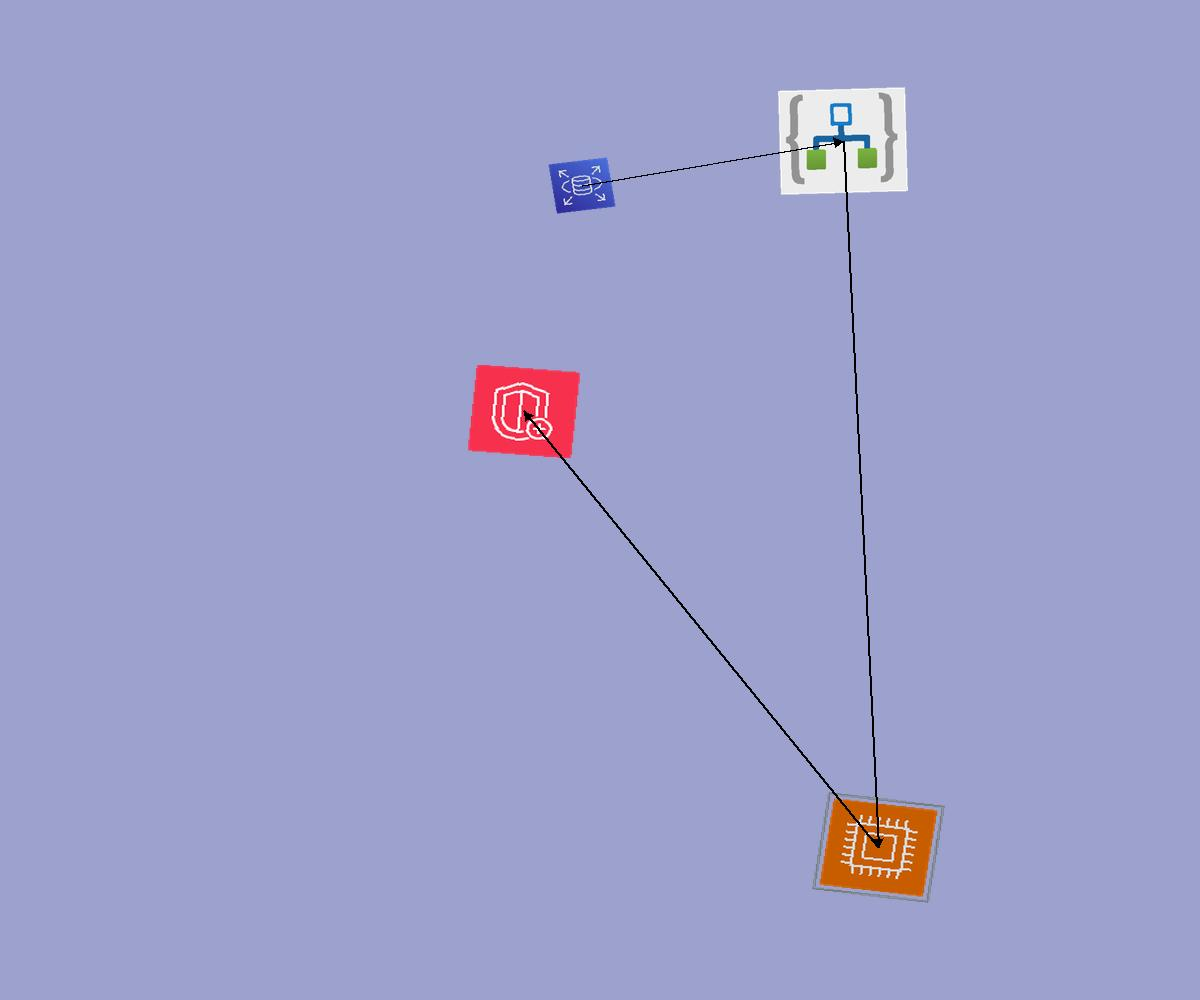AWS-Category_Compute: (812, 792, 945, 903)
AWS-RDS: (548, 157, 616, 214)
AWS-Shield: (467, 364, 581, 459)
Azure_integration-204-Logic-Apps: (778, 87, 908, 195)
